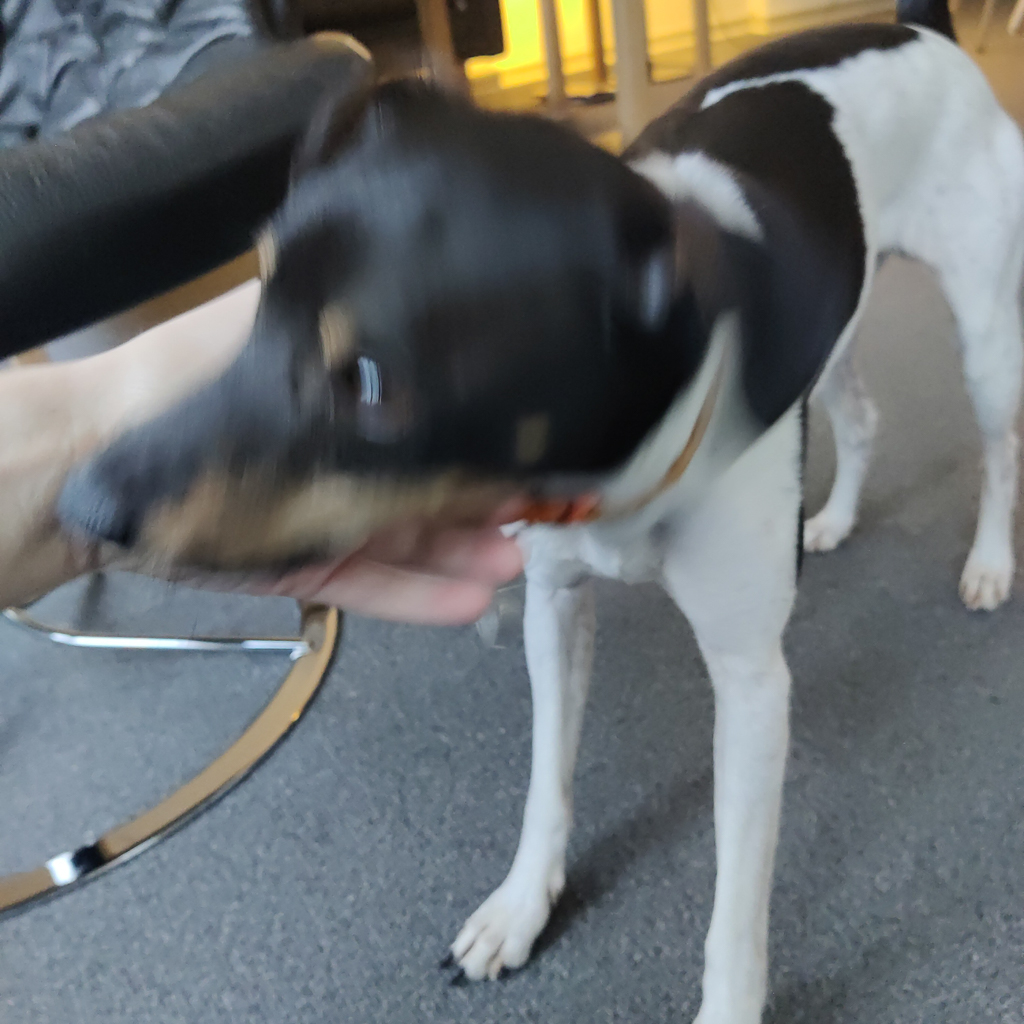Dog: (53, 0, 1024, 1024)
Humanoid: (0, 209, 631, 668)
